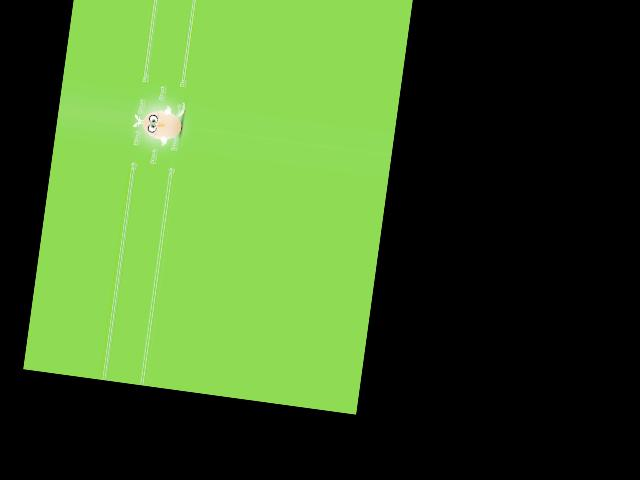egg: (141, 108, 184, 141)
